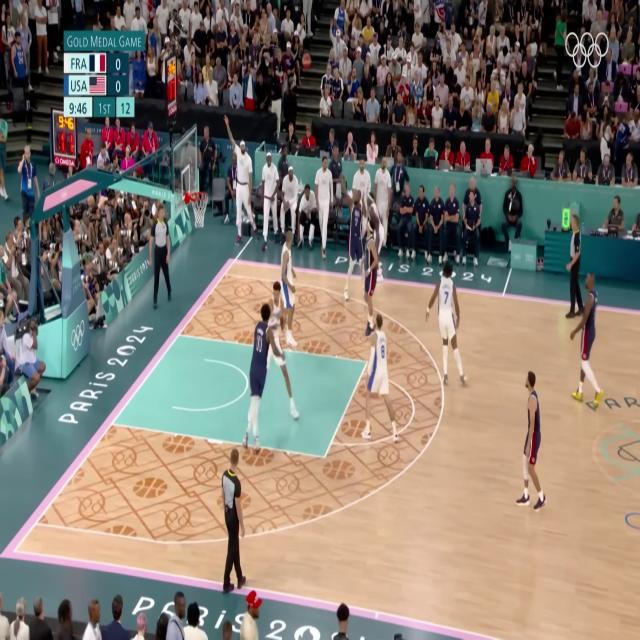player: (414, 249, 470, 388), (257, 272, 299, 428), (360, 308, 399, 461), (516, 366, 552, 516), (327, 170, 369, 297), (574, 272, 608, 420), (240, 300, 271, 452), (269, 223, 302, 353), (351, 205, 381, 337)
